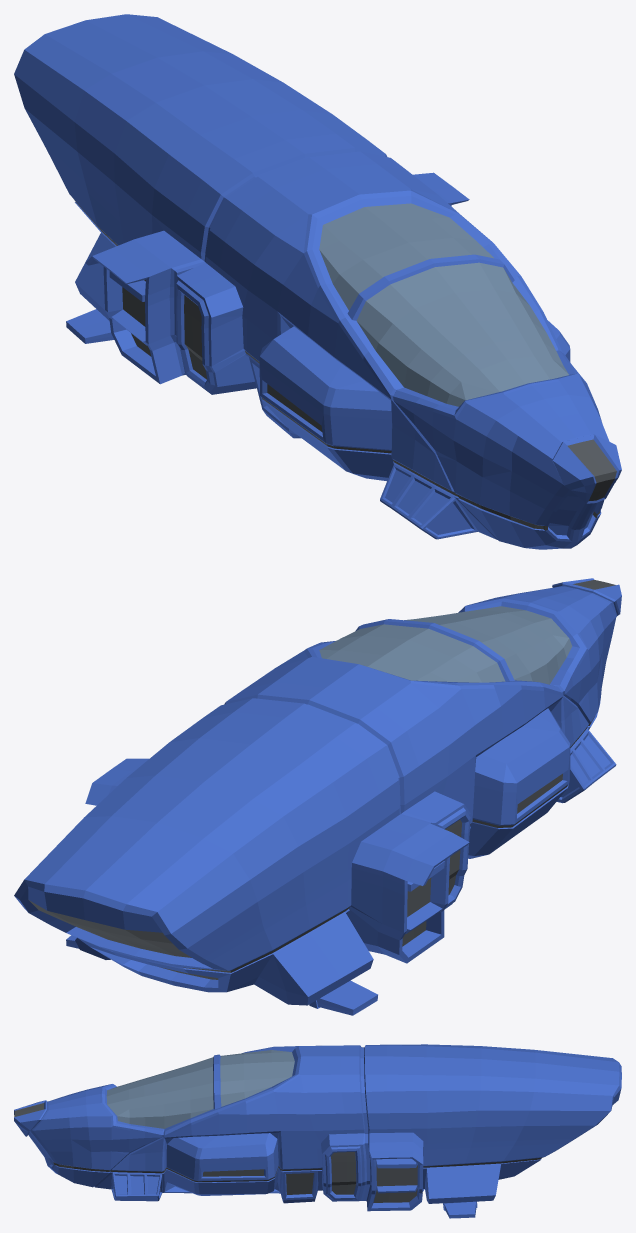
The model's file is Fighter_07_Body_Blue.fbx.
3 renders of one model, top to bottom at view 1: azimuth 30°, elevation 25°; view 2: azimuth 150°, elevation 25°; view 3: azimuth 270°, elevation 25°, orthographic. The views are drawn at different scales.
Visible parts, largest first — view 1: Fighter_07_Body_Blue; view 2: Fighter_07_Body_Blue; view 3: Fighter_07_Body_Blue.
Boxes of the visible parts, bbox=[...] form: Fighter_07_Body_Blue: bbox=[14, 14, 621, 549]; Fighter_07_Body_Blue: bbox=[14, 578, 621, 1015]; Fighter_07_Body_Blue: bbox=[14, 1044, 621, 1218].
Bounding box in the file's own units: 808 × 505 × 2135.
Materials: 3 (3 with a texture image).
